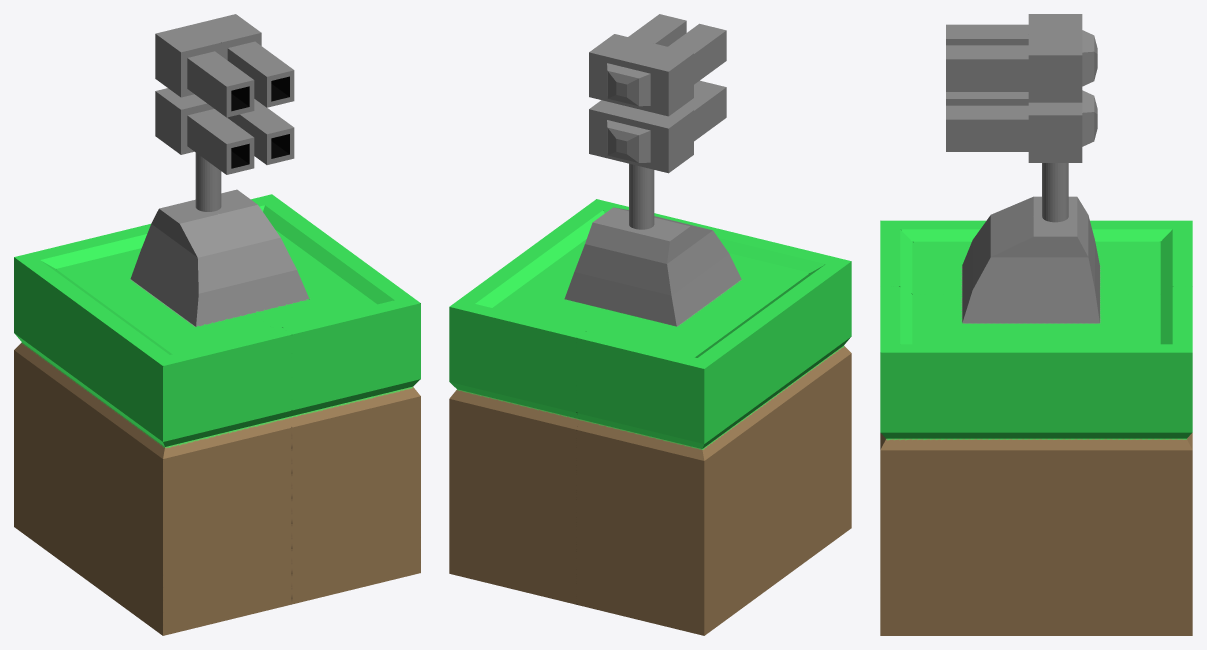
The model's file is Tile_Tower_4.fbx.
The picture shows the model from 3 angles, left to right: view 1: azimuth 30°, elevation 25°; view 2: azimuth 150°, elevation 25°; view 3: azimuth 270°, elevation 25°; orthographic projection. The views are drawn at different scales.
Visible parts, largest first — view 1: Head, Base; view 2: Head, Base; view 3: Head, Base.
Part boxes in pixels (x1=…): Head: x1=14, y1=153, x2=420, y2=635; Base: x1=155, y1=14, x2=294, y2=174; Head: x1=449, y1=163, x2=851, y2=635; Base: x1=589, y1=14, x2=726, y2=173; Head: x1=880, y1=163, x2=1192, y2=635; Base: x1=946, y1=14, x2=1097, y2=162.
Size of the model in its own units: 200 by 378 by 200.
